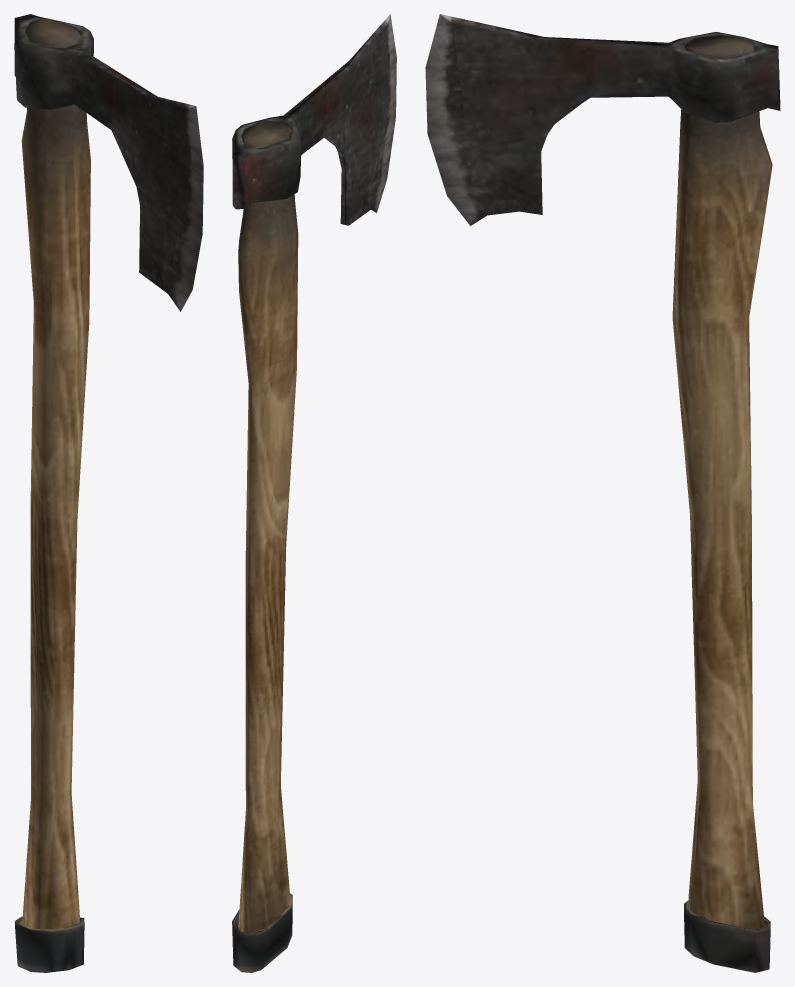
The model's file is axe.glb.
3 renders of one model, left to right at view 1: azimuth 30°, elevation 25°; view 2: azimuth 150°, elevation 25°; view 3: azimuth 270°, elevation 25°, orthographic. The views are drawn at different scales.
Parts seen in each view (by area): view 1: wooden_axe; view 2: wooden_axe; view 3: wooden_axe.
Part boxes in pixels (x1=…): wooden_axe: x1=14, y1=14, x2=203, y2=972; wooden_axe: x1=232, y1=14, x2=396, y2=972; wooden_axe: x1=425, y1=14, x2=780, y2=972.
Size of the model in its own units: 0.0472 by 0.6301 by 0.2125.
Materials: 1 (1 with a texture image).
